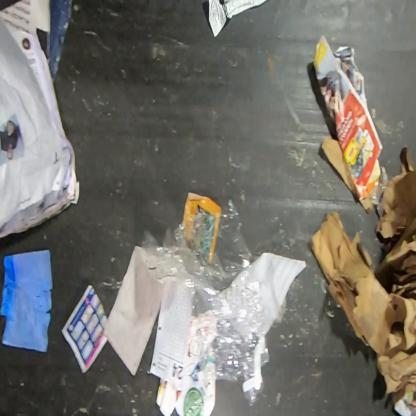cardboard: (308, 146, 416, 407), (321, 135, 355, 196)
soft_plastic: (140, 199, 270, 409)
